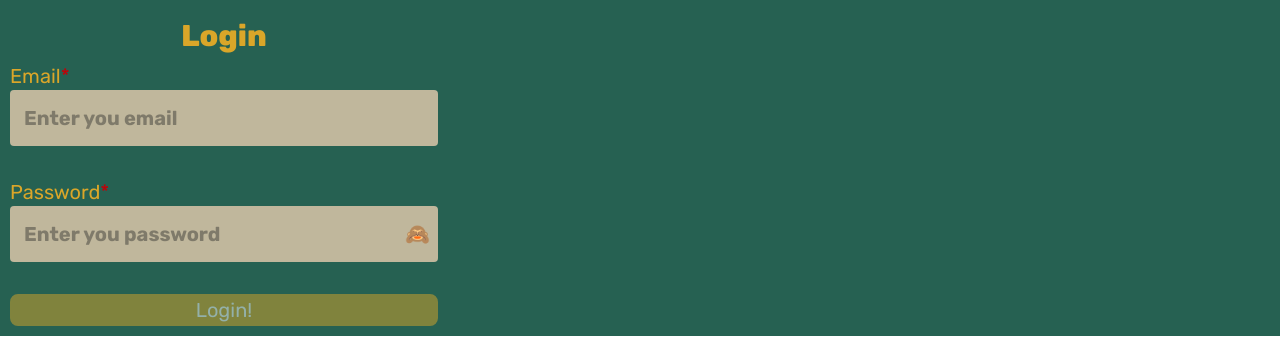
Login Email input › Error: Email not contain a domain name (e.g., example.com)
Type "dfda@" into the field with placeholder "Enter you email" at (224, 118), box x1=10 y1=90 x2=438 y2=146
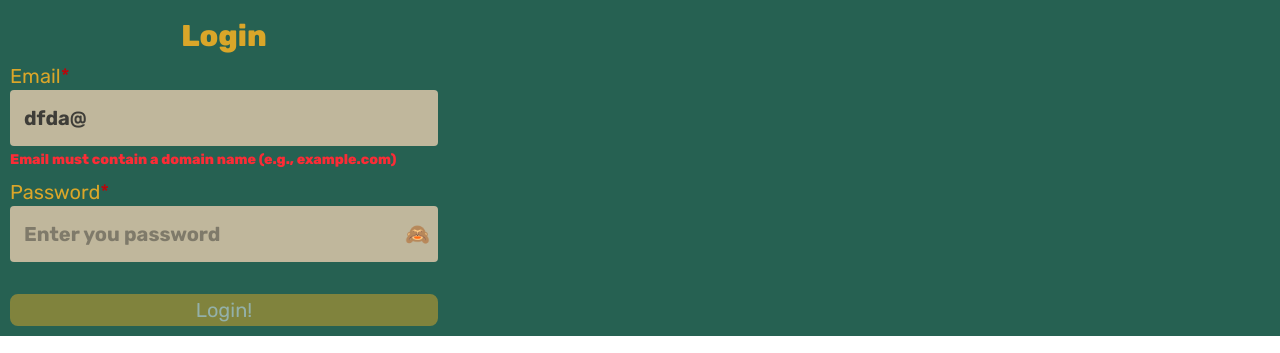
expect the text "Email must contain a domain name (e.g., example.com)" is shown: met, box x1=10 y1=150 x2=438 y2=170
